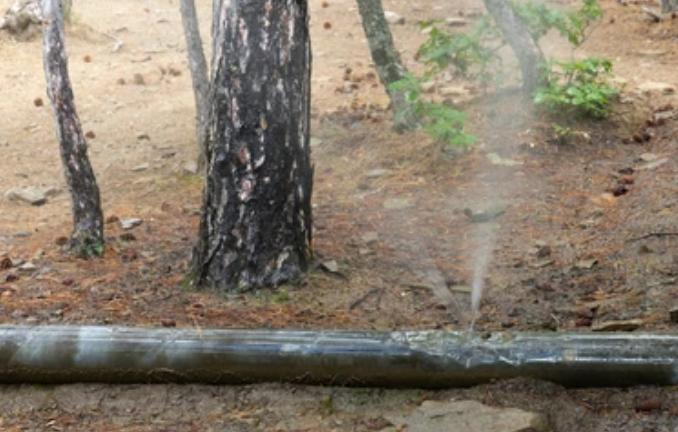pipe burst: (359, 60, 528, 338)
